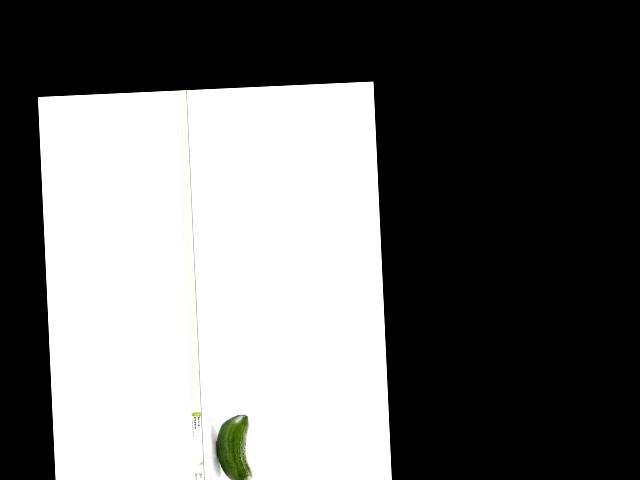cucumber: (214, 414, 251, 480)
